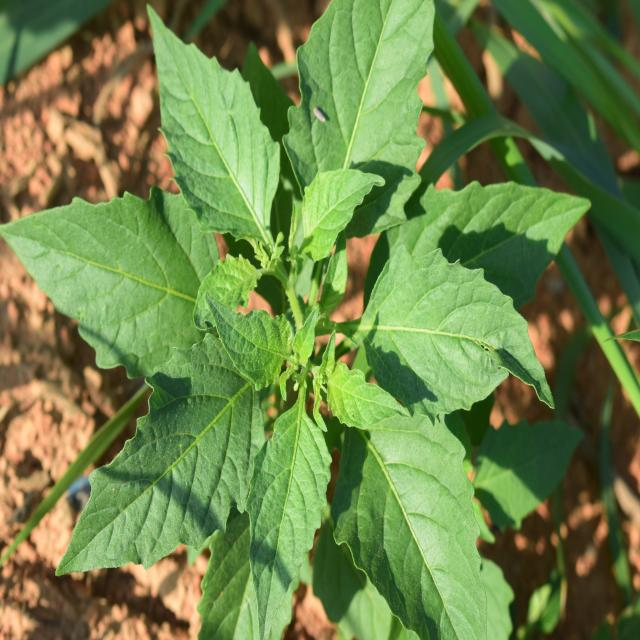Black_nightshade: (57, 18, 548, 604)
